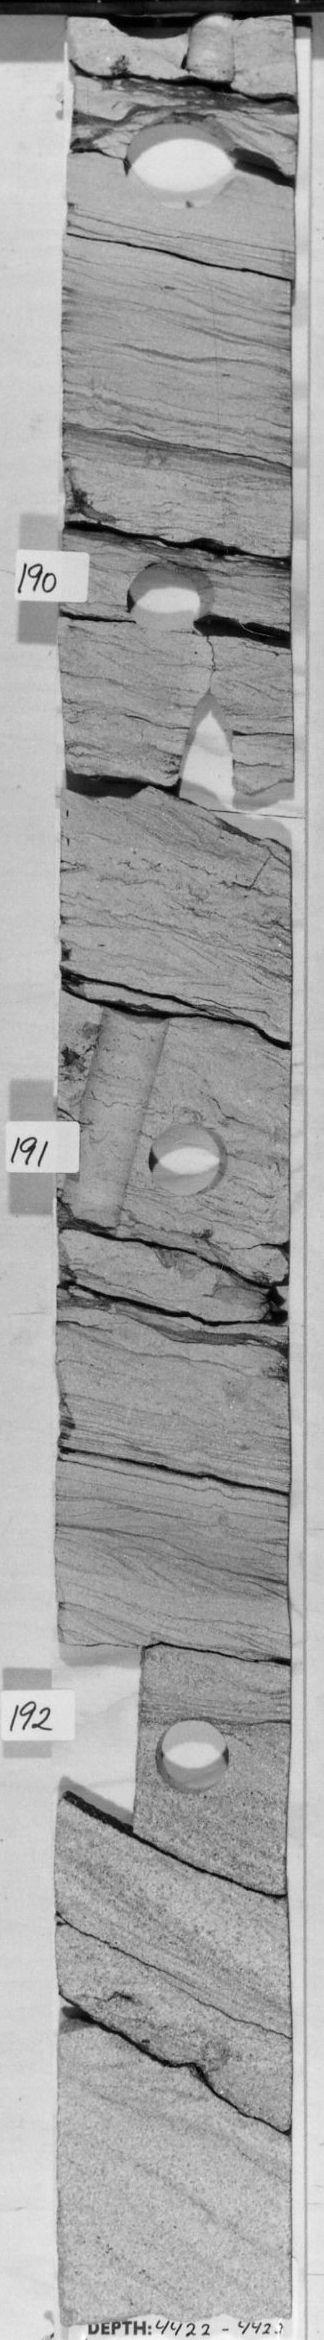hplug: (63, 1013, 172, 1237), (119, 560, 218, 636), (155, 1715, 237, 1795), (146, 1124, 230, 1201)
scal: (112, 104, 243, 221)
vplug: (63, 1636, 149, 1833), (172, 685, 240, 801), (182, 19, 249, 91)
